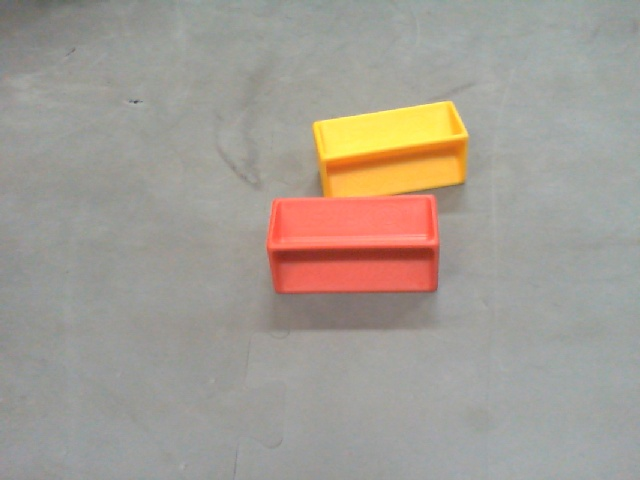RedSample: (265, 189, 443, 300)
YellowSample: (305, 99, 469, 200)
